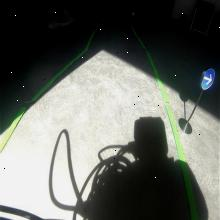right: (200, 67, 216, 90)
